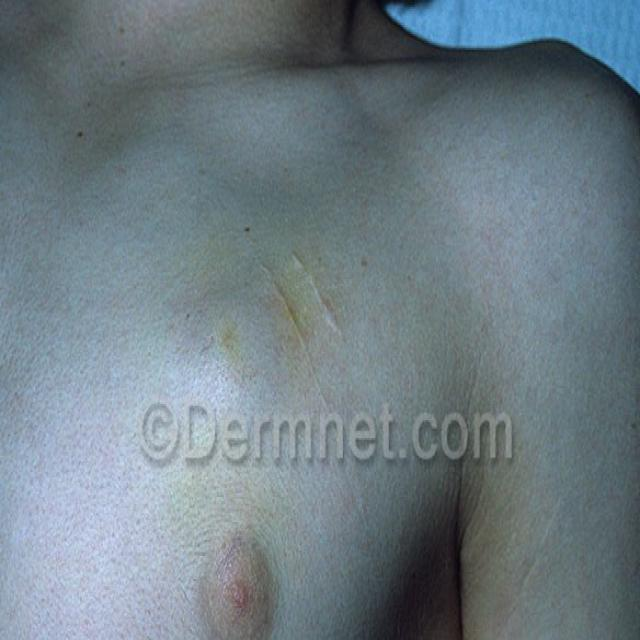Vascular Tumors: (250, 233, 349, 385)
